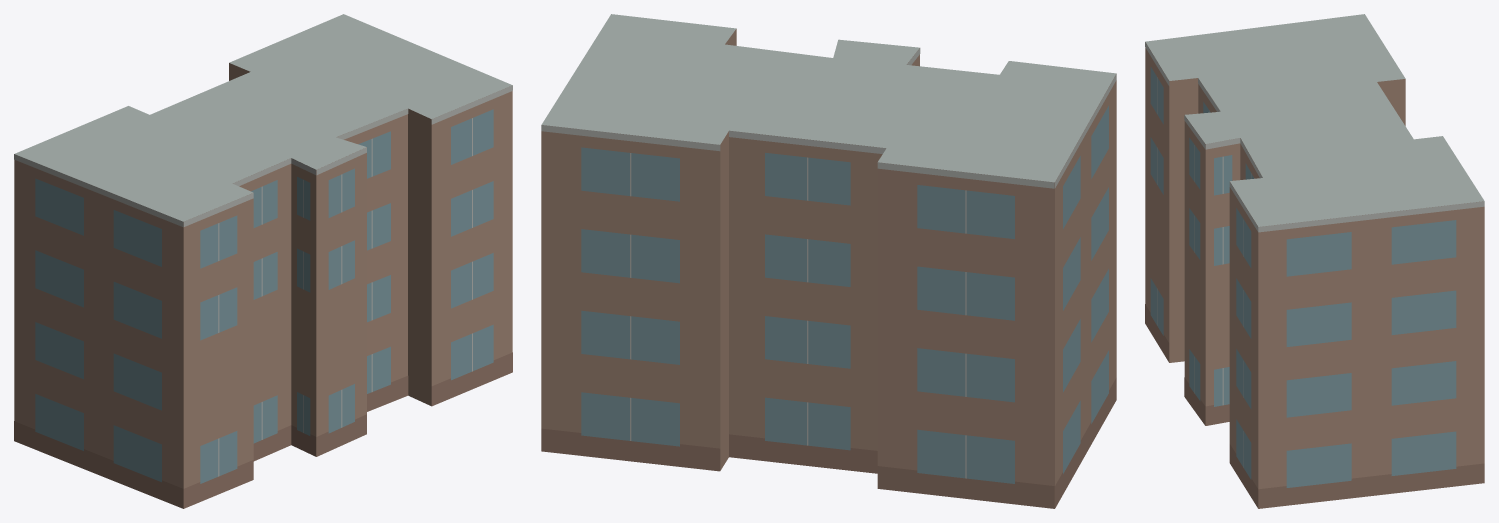
The model's file is survey-upis-32998415.glb.
3 renders of one model, left to right at view 1: azimuth 30°, elevation 25°; view 2: azimuth 150°, elevation 25°; view 3: azimuth 270°, elevation 25°, orthographic. The views are drawn at different scales.
Parts seen in each view (by area): view 1: survey-upis-32998415.tmp; view 2: survey-upis-32998415.tmp; view 3: survey-upis-32998415.tmp.
Part boxes in pixels (x1,y1,x2,y2): survey-upis-32998415.tmp: (14, 14, 512, 508); survey-upis-32998415.tmp: (541, 14, 1116, 508); survey-upis-32998415.tmp: (1145, 14, 1484, 508).
Size of the model in its own units: 20.26 by 12.5 by 13.65.
